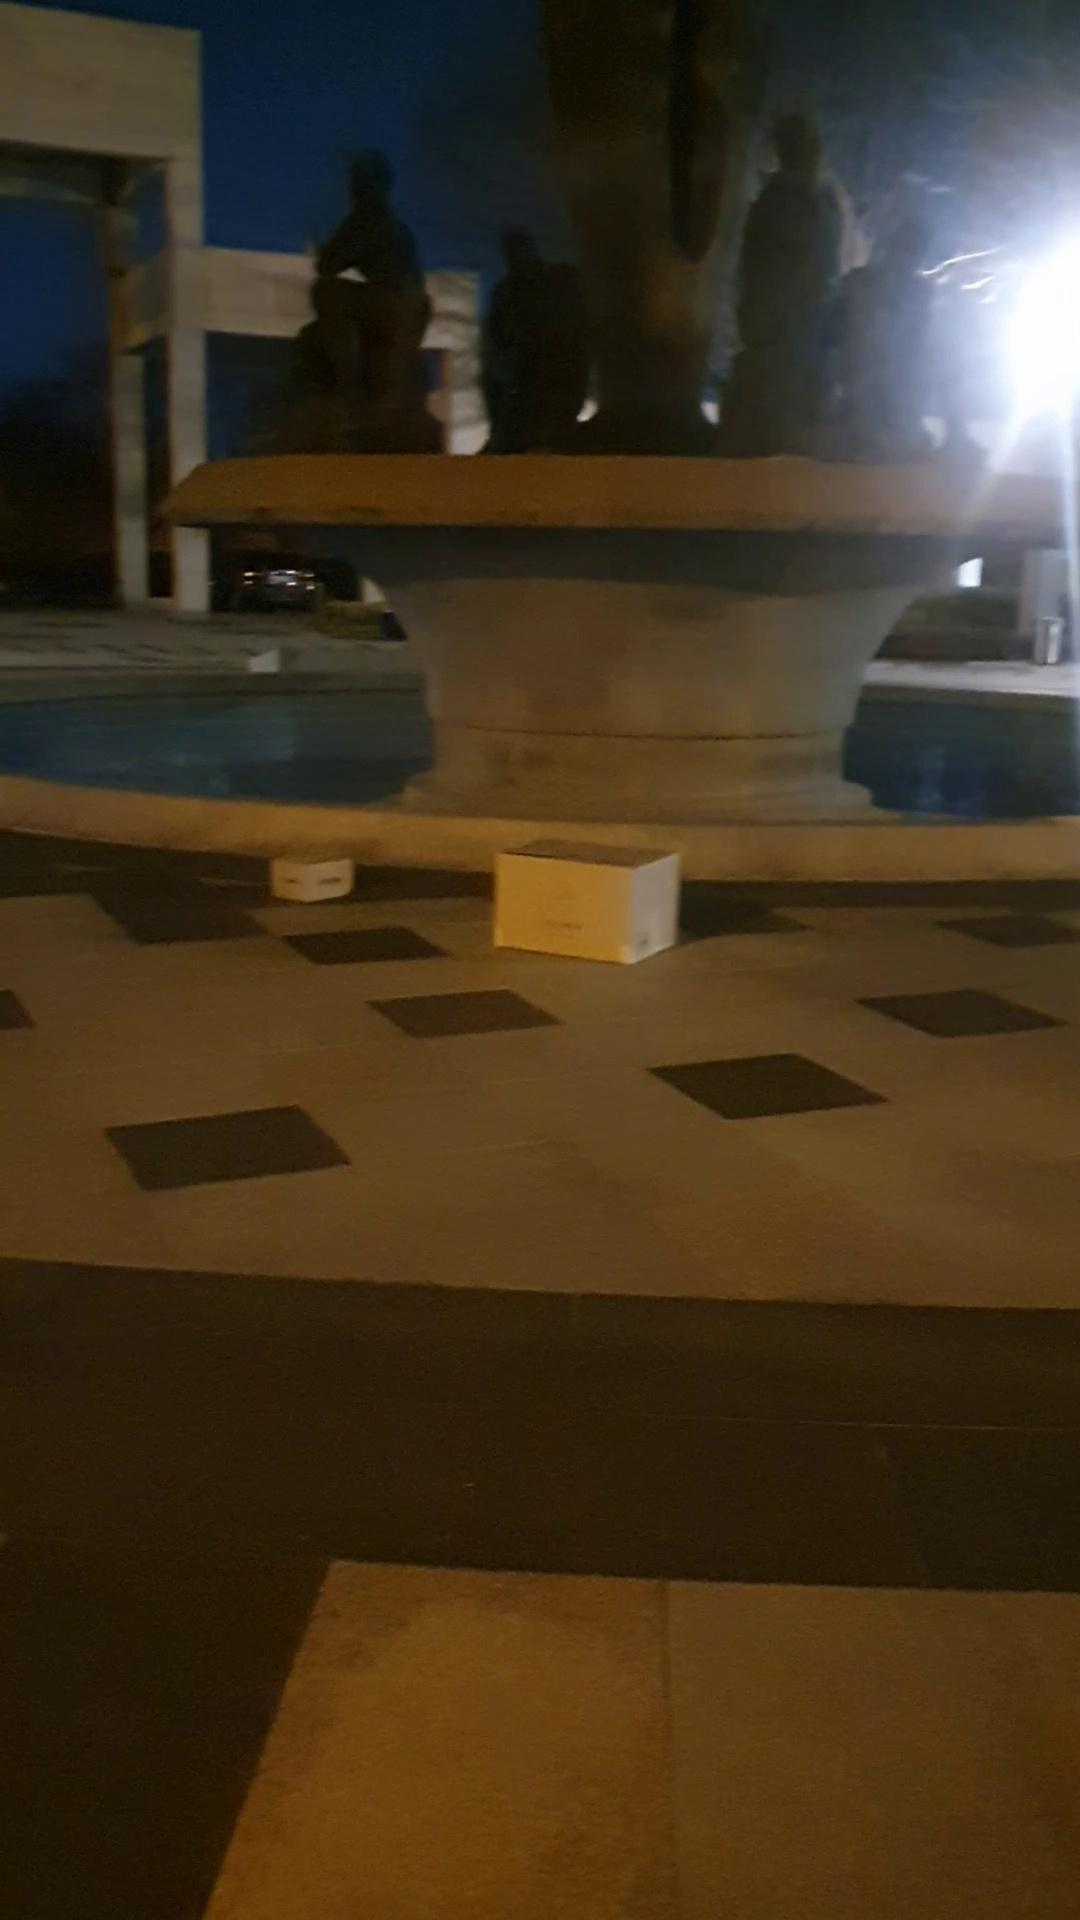Box: (481, 823, 684, 971), (247, 835, 371, 915)
